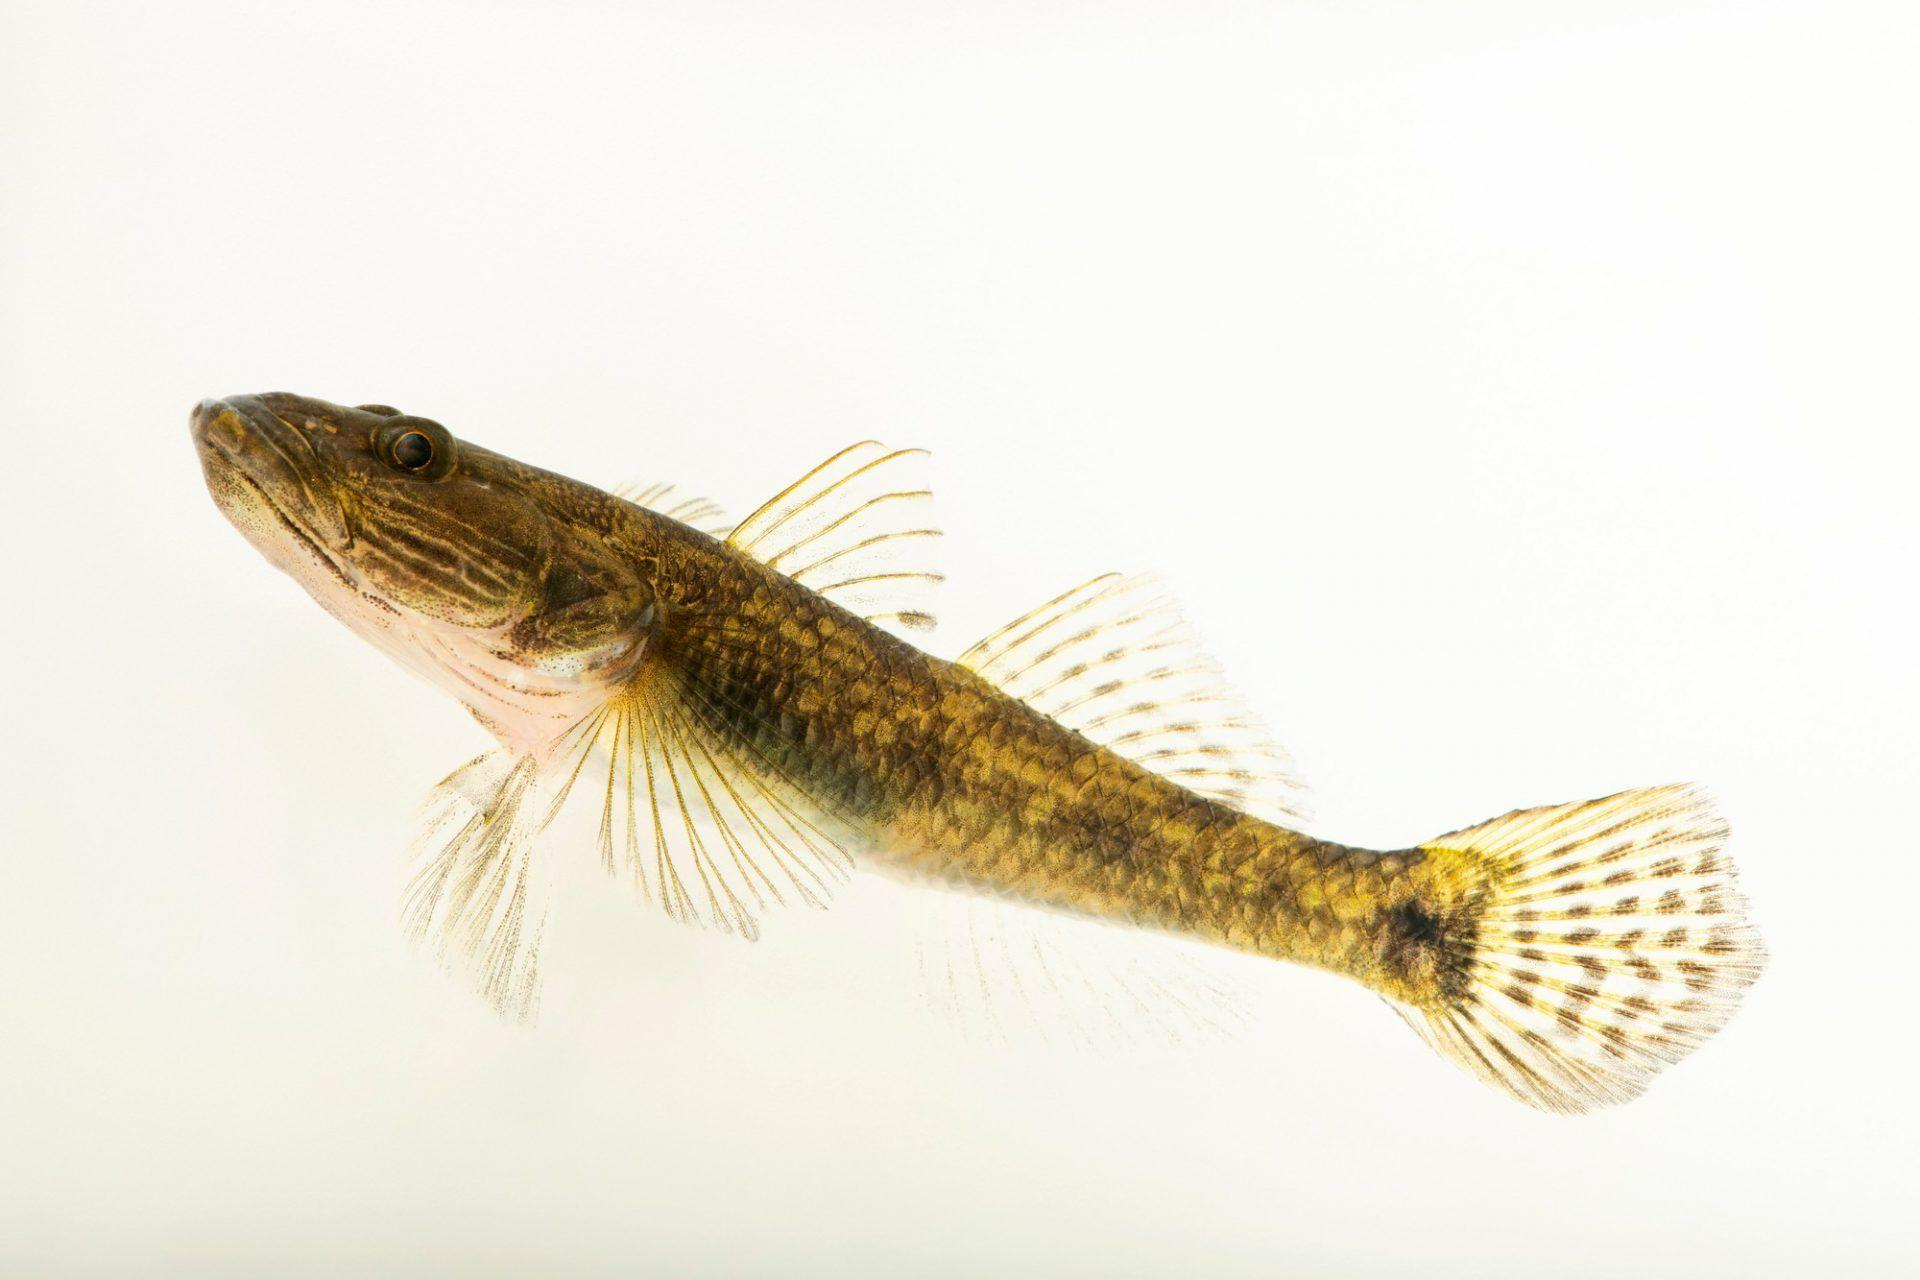Goby: (169, 347, 1780, 1133)
